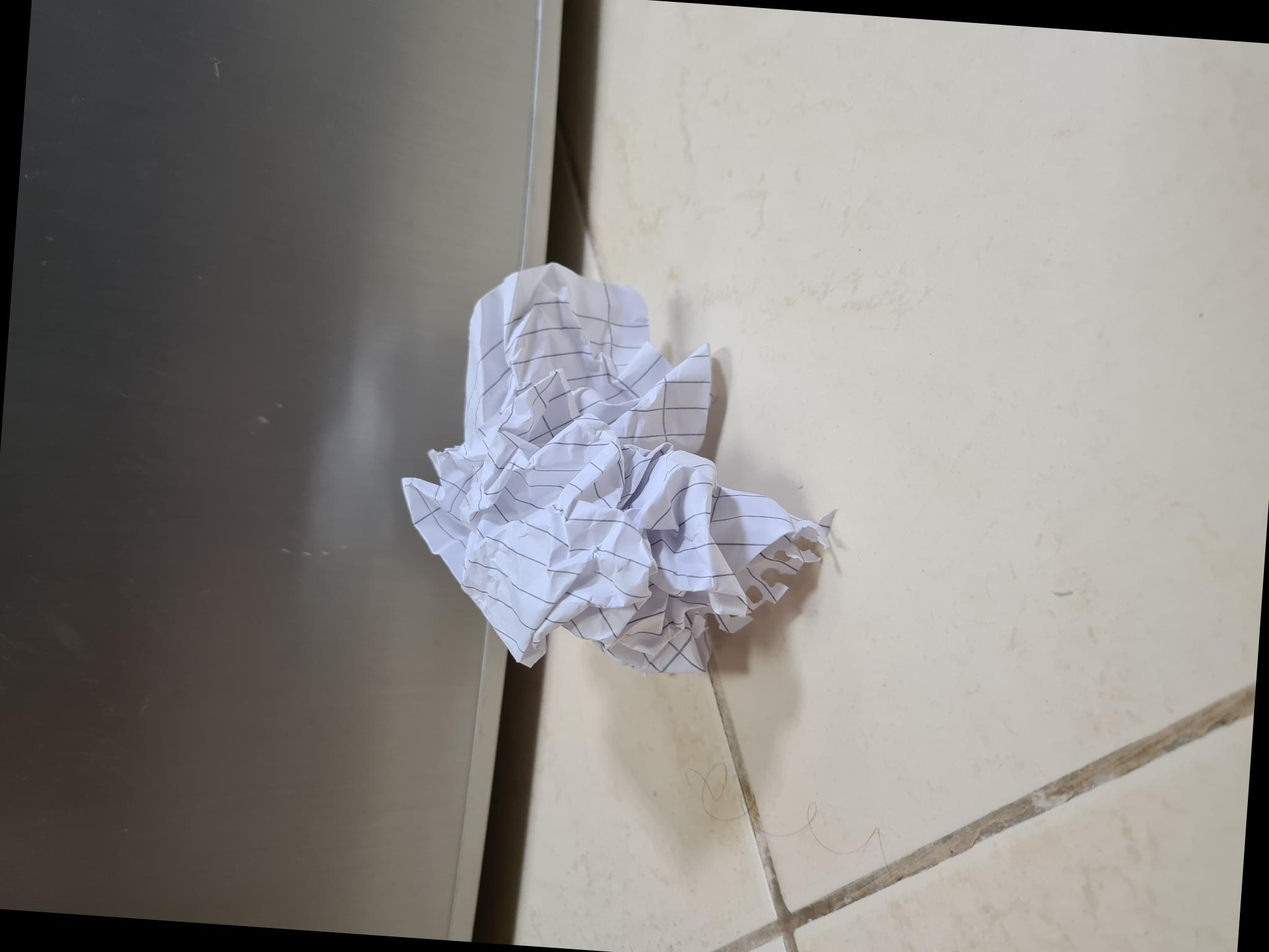Kertas: (242, 381, 698, 826), (268, 391, 677, 819)
